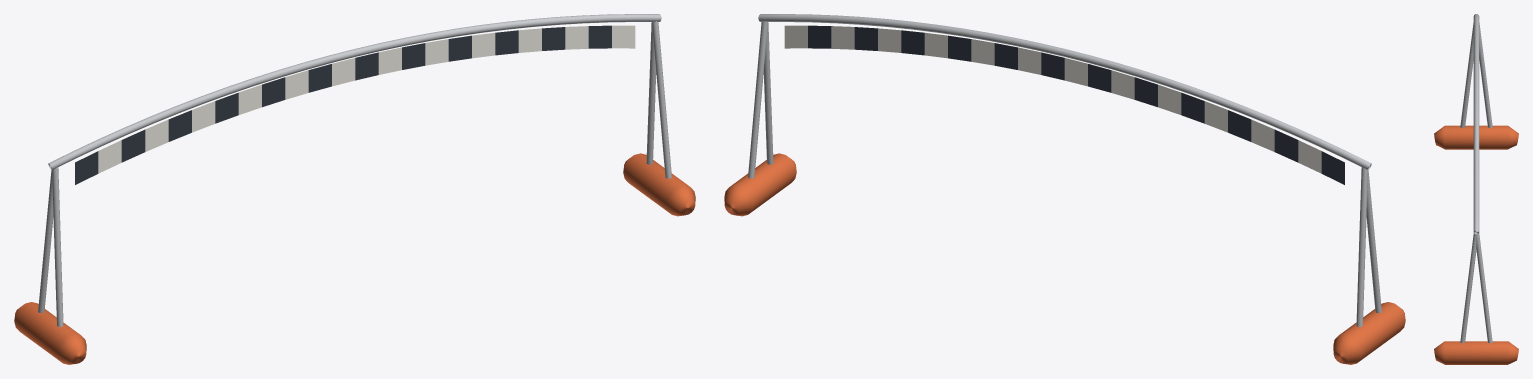
File: gate.glb
3 renders of one model, left to right at view 1: azimuth 30°, elevation 25°; view 2: azimuth 150°, elevation 25°; view 3: azimuth 270°, elevation 25°, orthographic. The views are drawn at different scales.
Visible parts, largest first — view 1: Gate; view 2: Gate; view 3: Gate.
Part boxes in pixels (x1,y1,x2,y2): Gate: (14,14,695,364); Gate: (724,14,1405,364); Gate: (1434,14,1518,364).
Size of the model in its own units: 44.01 by 14.81 by 6.98.
